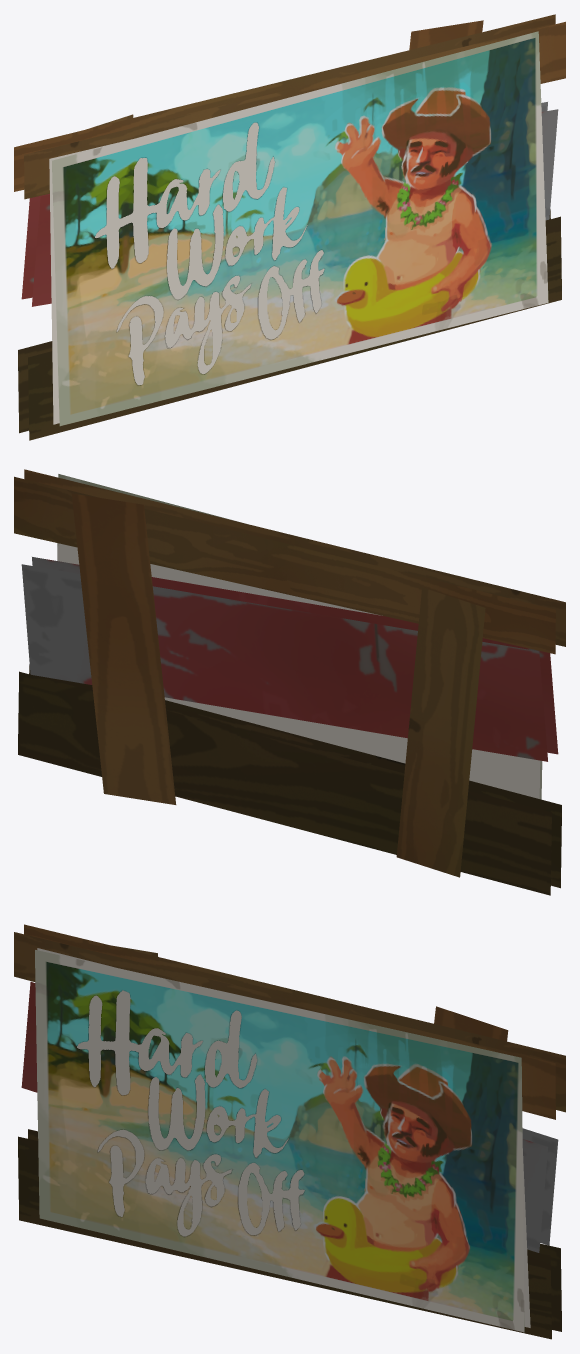
The model's file is obj_manmade_holidayposter_lod1.fbx.
The picture shows the model from 3 angles, top to bottom: view 1: azimuth 30°, elevation 25°; view 2: azimuth 150°, elevation 25°; view 3: azimuth 330°, elevation 25°; orthographic projection.
Parts seen in each view (by area): view 1: obj_manmade_holidayposter_lod1; view 2: obj_manmade_holidayposter_lod1; view 3: obj_manmade_holidayposter_lod1.
Part boxes in pixels (x1=…): obj_manmade_holidayposter_lod1: x1=14, y1=14, x2=565, y2=440; obj_manmade_holidayposter_lod1: x1=14, y1=469, x2=565, y2=895; obj_manmade_holidayposter_lod1: x1=14, y1=924, x2=565, y2=1339.
Size of the model in its own units: 8 by 4.22 by 0.6214.
